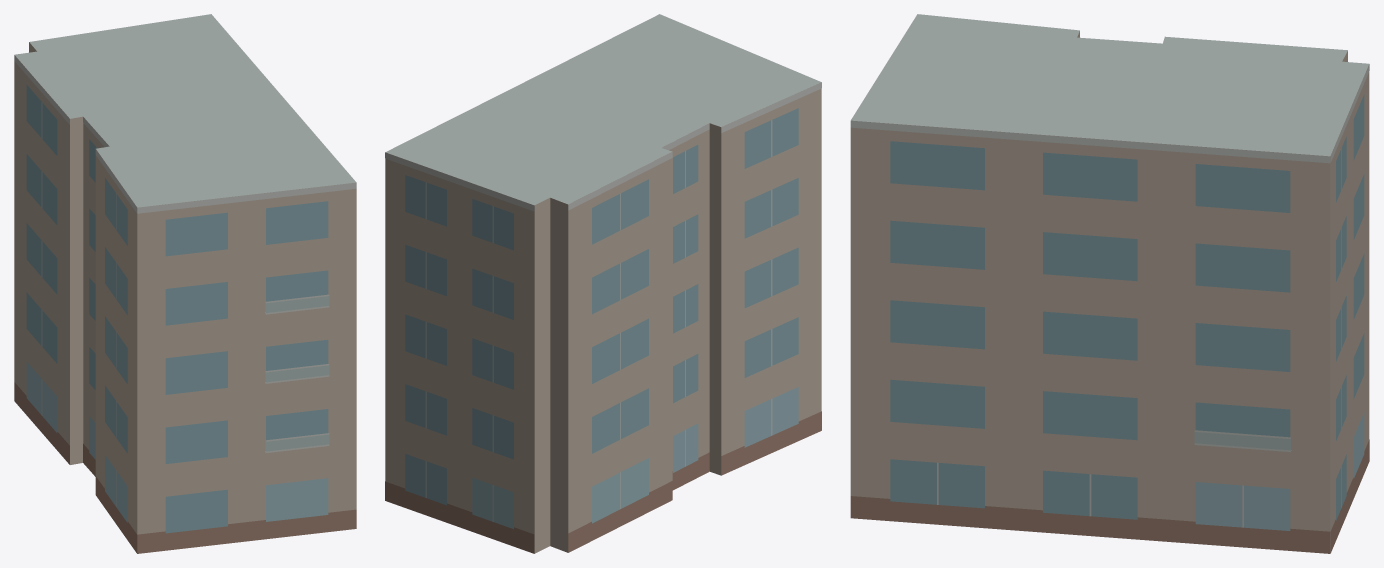
Rendered from survey-upis-32854356.glb.
3 views of the same model, side by side, from view 1: azimuth 30°, elevation 25°; view 2: azimuth 150°, elevation 25°; view 3: azimuth 270°, elevation 25° (orthographic). The views are drawn at different scales.
Visible parts, largest first — view 1: survey-upis-32854356.tmp; view 2: survey-upis-32854356.tmp; view 3: survey-upis-32854356.tmp.
Part boxes in pixels (<box>): survey-upis-32854356.tmp: <box>14,14,356,553</box>; survey-upis-32854356.tmp: <box>385,14,821,553</box>; survey-upis-32854356.tmp: <box>850,14,1369,553</box>.
Bounding box in the file's own units: 10.6 × 13.8 × 16.33.
